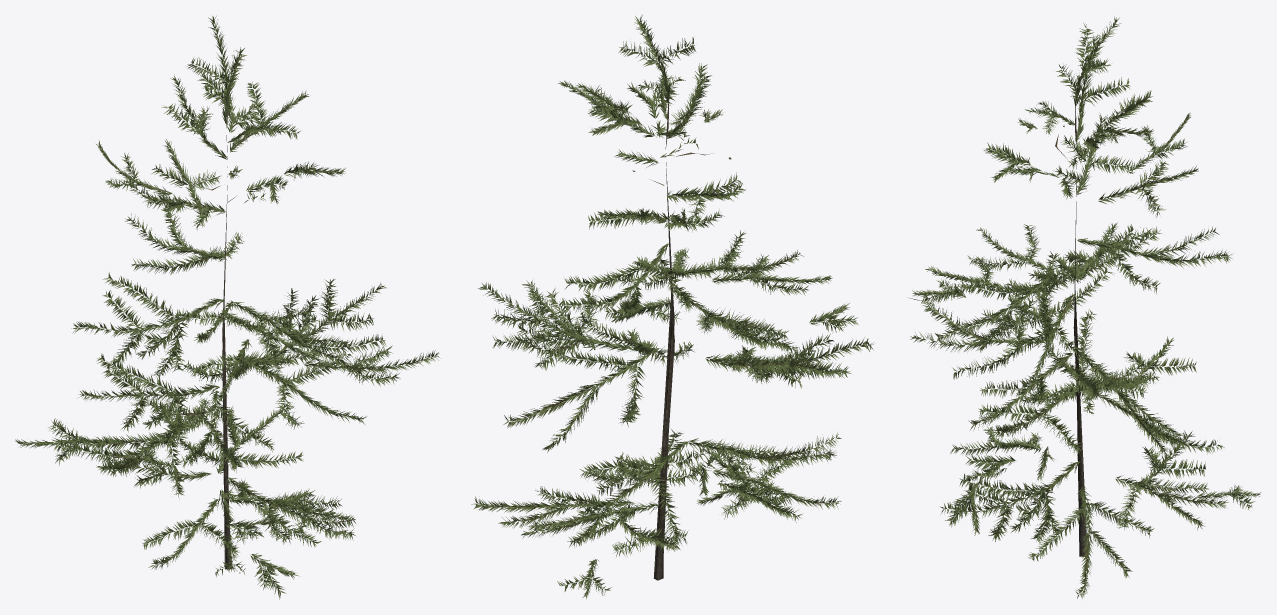
File: fir-near.glb
3 renders of one model, left to right at view 1: azimuth 30°, elevation 25°; view 2: azimuth 150°, elevation 25°; view 3: azimuth 270°, elevation 25°, orthographic. The views are drawn at different scales.
Visible parts, largest first — view 1: fir_sapling_a; view 2: fir_sapling_a; view 3: fir_sapling_a.
Part boxes in pixels (x1,y1,x2,y2): fir_sapling_a: (15, 16, 439, 599); fir_sapling_a: (471, 15, 874, 599); fir_sapling_a: (908, 16, 1261, 598).
Size of the model in its own units: 4.77 by 7.2 by 4.31.
2 materials, 2 textured.
